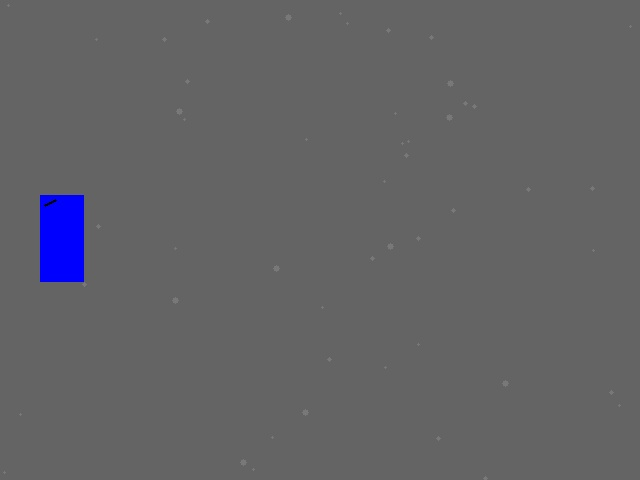motorcycle: (40, 195, 83, 281)
